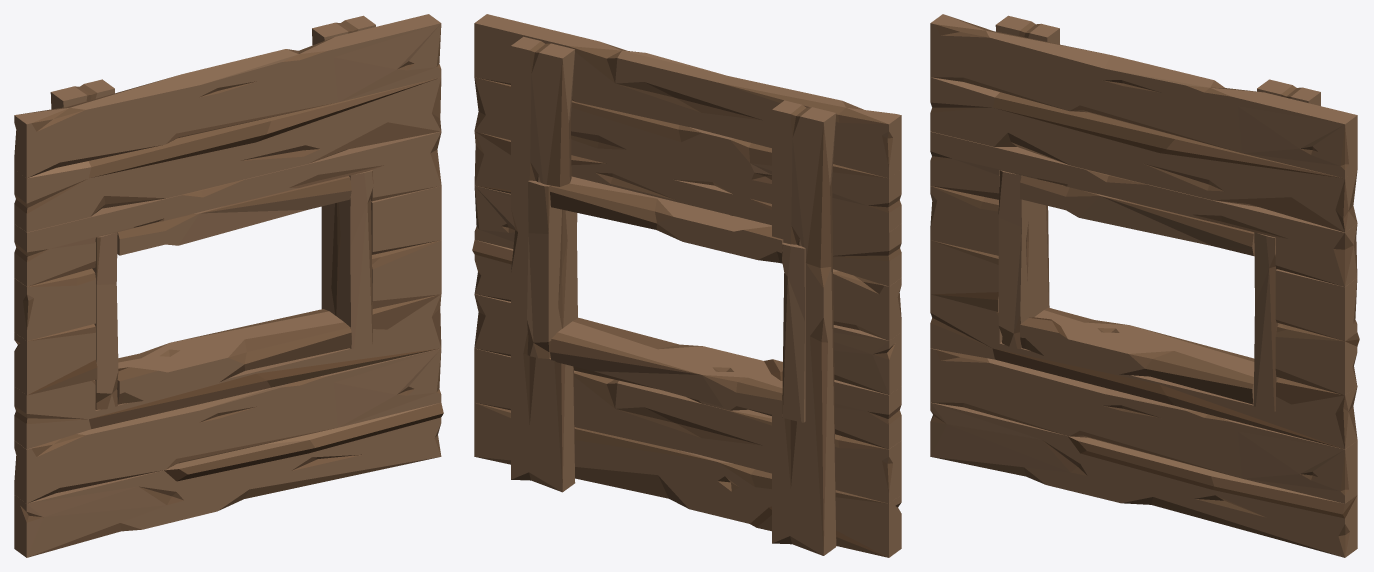
The model's file is mesh_plank_wall_window_big.fbx.
The picture shows the model from 3 angles, left to right: view 1: azimuth 30°, elevation 25°; view 2: azimuth 150°, elevation 25°; view 3: azimuth 330°, elevation 25°; orthographic projection.
Visible parts, largest first — view 1: mesh_plank_wall_window_big; view 2: mesh_plank_wall_window_big; view 3: mesh_plank_wall_window_big.
Part boxes in pixels (x1,y1,x2,y2): mesh_plank_wall_window_big: (14, 14, 443, 557); mesh_plank_wall_window_big: (472, 14, 901, 557); mesh_plank_wall_window_big: (930, 14, 1359, 557).
Bounding box in the file's own units: 2 × 2 × 0.2617.
